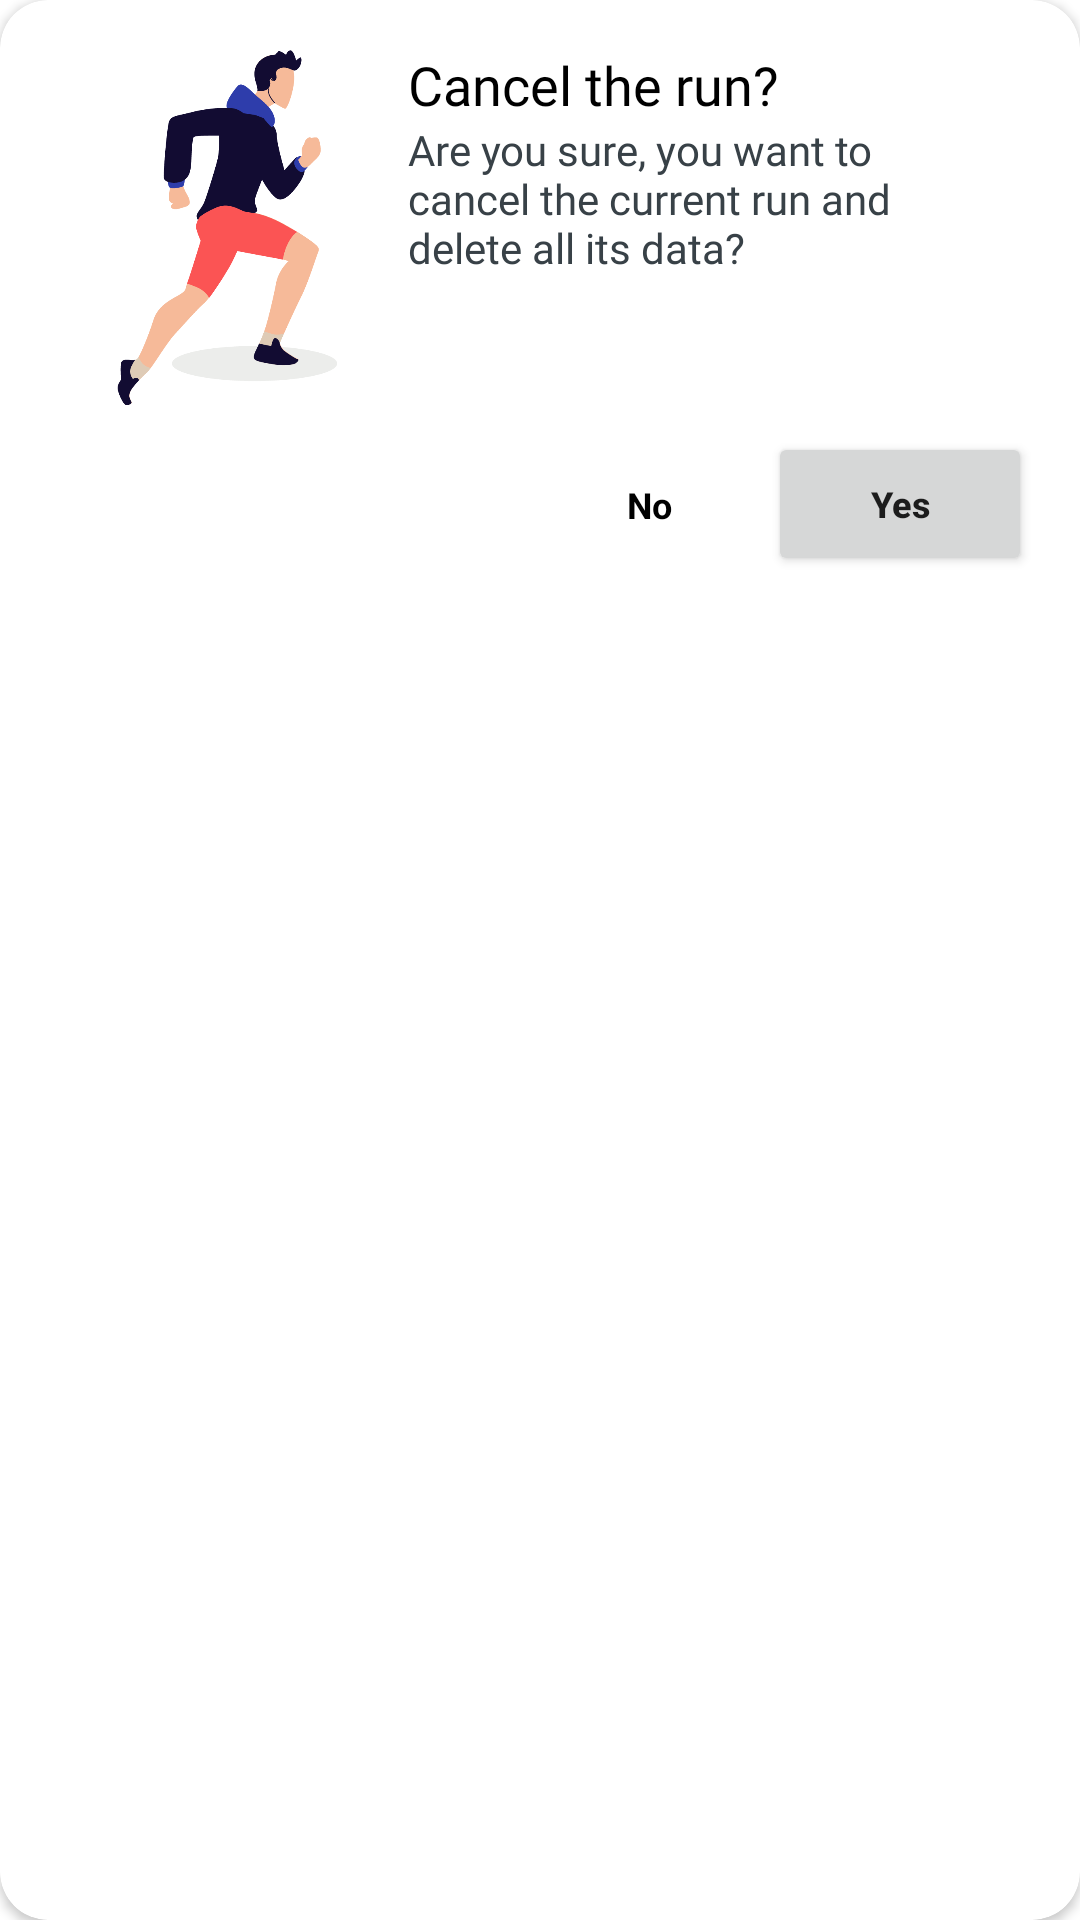

Where icons sit on this 1080*1920 app screen, as region(x1, y1, x2, y2):
player running: region(117, 50, 321, 405)
